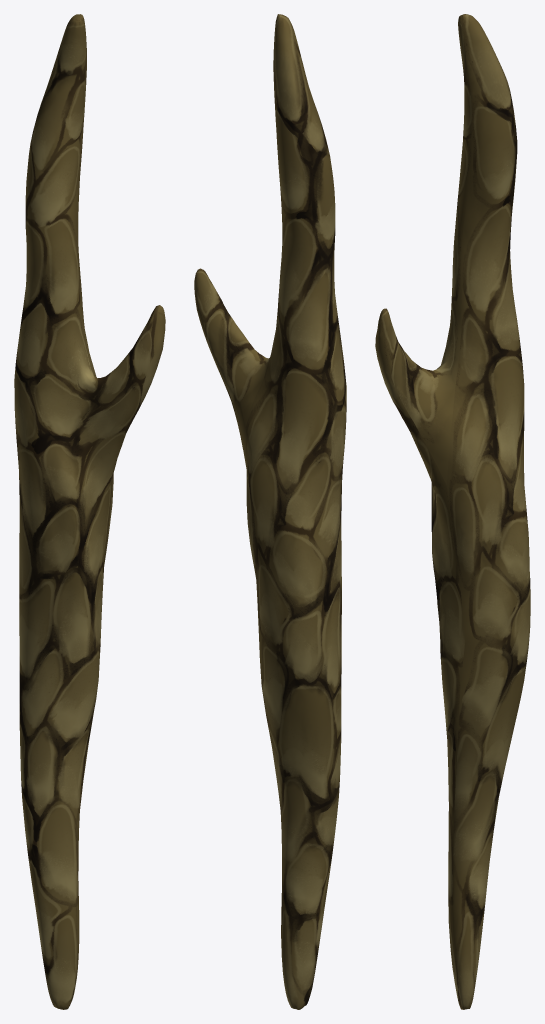
File: Branch1(1).fbx
The picture shows the model from 3 angles, left to right: view 1: azimuth 30°, elevation 25°; view 2: azimuth 210°, elevation 25°; view 3: azimuth 270°, elevation 25°; orthographic projection.
Visible parts, largest first — view 1: branch1; view 2: branch1; view 3: branch1.
Part boxes in pixels (x1=…): branch1: x1=14, y1=14, x2=165, y2=1009; branch1: x1=194, y1=14, x2=346, y2=1009; branch1: x1=375, y1=14, x2=530, y2=1009.
Size of the model in its own units: 94.49 by 947 by 133.
Materials: 1 (1 with a texture image).
